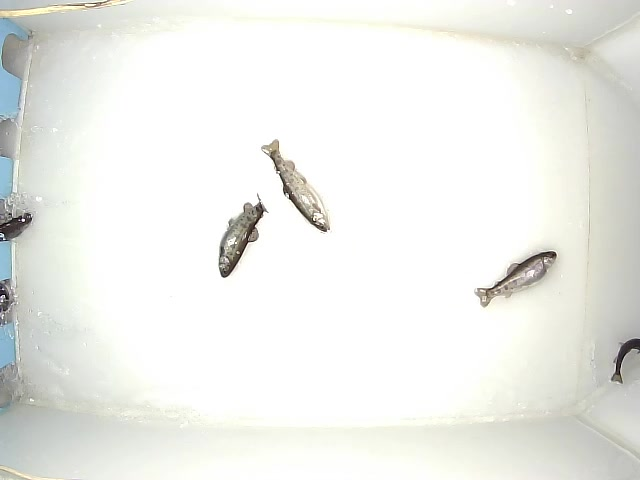fish: (261, 139, 330, 232), (474, 251, 557, 308), (219, 192, 269, 278), (610, 337, 640, 385), (1, 212, 32, 240)
